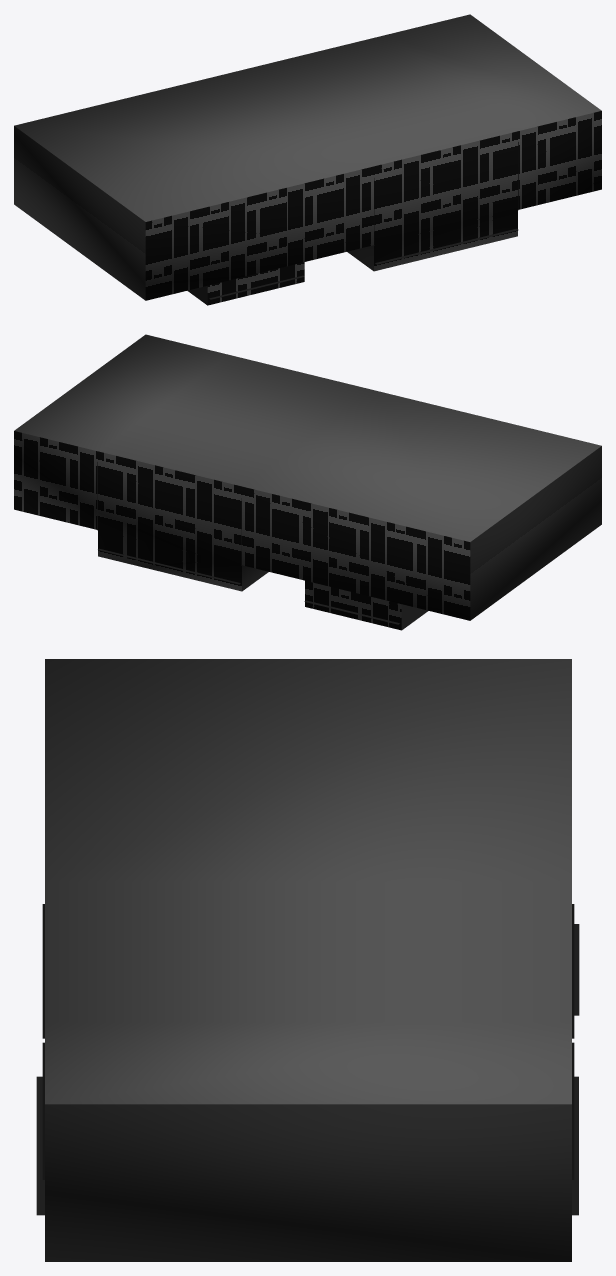
File: 3645kg_case_12.gltf
3 views of the same model, one above another, from view 1: azimuth 30°, elevation 25°; view 2: azimuth 150°, elevation 25°; view 3: azimuth 270°, elevation 25° (orthographic). The views are drawn at different scales.
Visible parts, largest first — view 1: 3645kg_case_12; view 2: 3645kg_case_12; view 3: 3645kg_case_12.
Boxes of the visible parts, x1,y1,x2,y2 form: 3645kg_case_12: (14, 14, 601, 305); 3645kg_case_12: (14, 334, 601, 630); 3645kg_case_12: (36, 659, 579, 1261).
Size of the model in its own units: 2 by 0.4399 by 1.03.
Materials: 3 (3 with a texture image).
